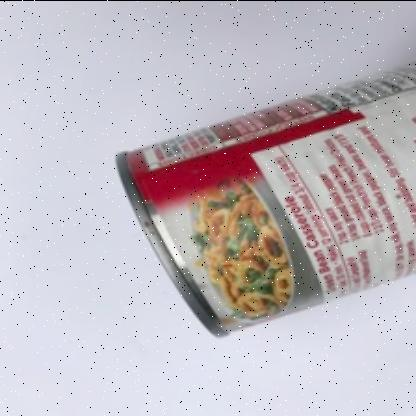Can: (114, 62, 416, 338)
